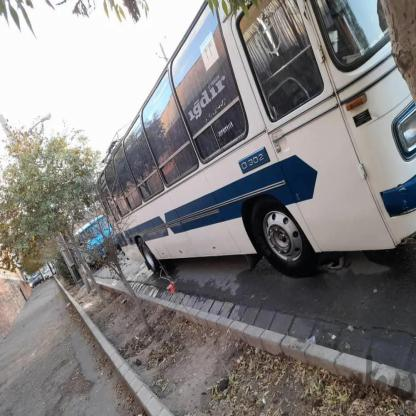Bus: (91, 0, 416, 276), (68, 220, 118, 257)
Car: (29, 269, 46, 286)
